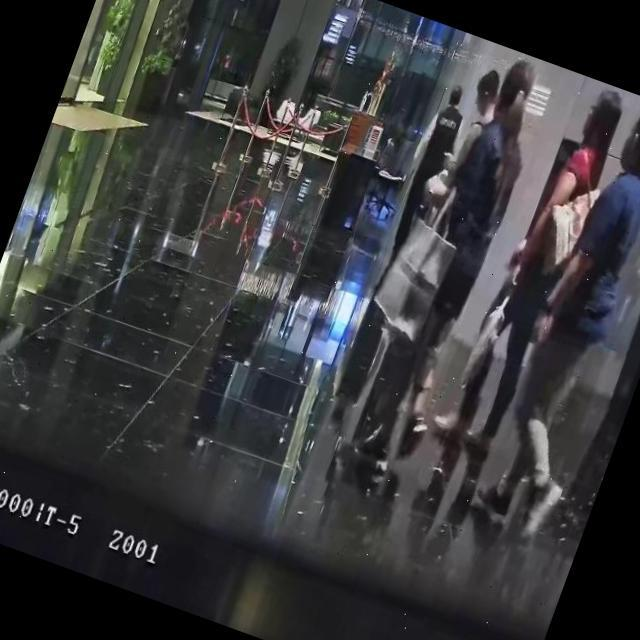person: (433, 74, 632, 457), (468, 94, 640, 532), (356, 43, 558, 412), (382, 50, 558, 398), (380, 78, 477, 265), (412, 62, 509, 240)
